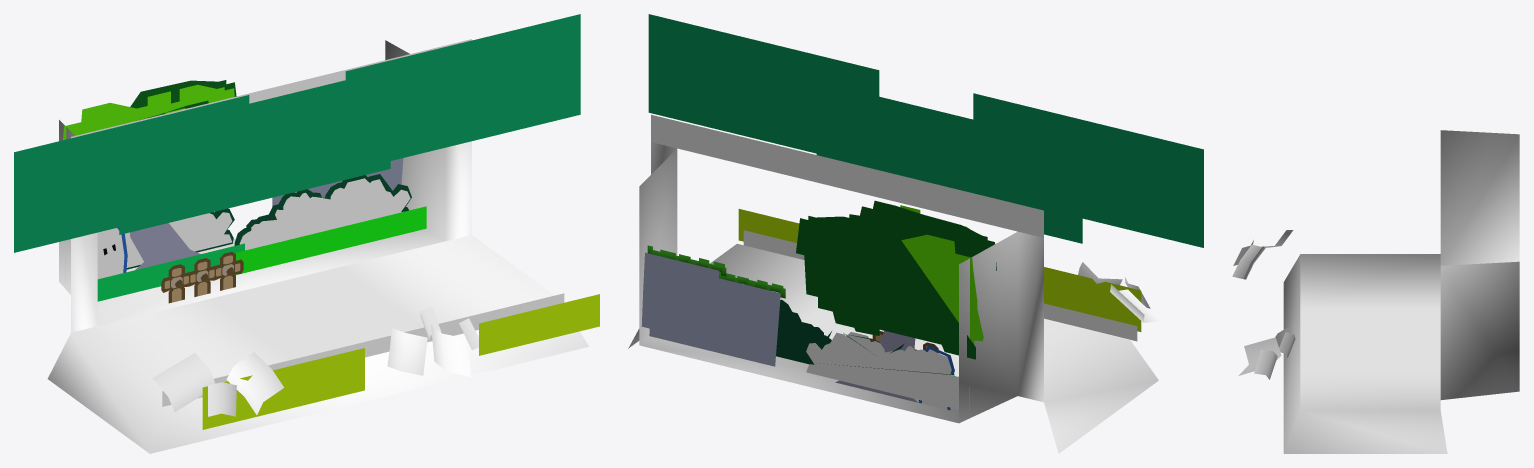
The model's file is outputCleanHumpless2.obj.
3 views of the same model, side by side, from view 1: azimuth 30°, elevation 25°; view 2: azimuth 150°, elevation 25°; view 3: azimuth 270°, elevation 25° (orthographic). The views are drawn at different scales.
Bounding box in the file's own units: 0.53 × 0.26 × 0.291.
